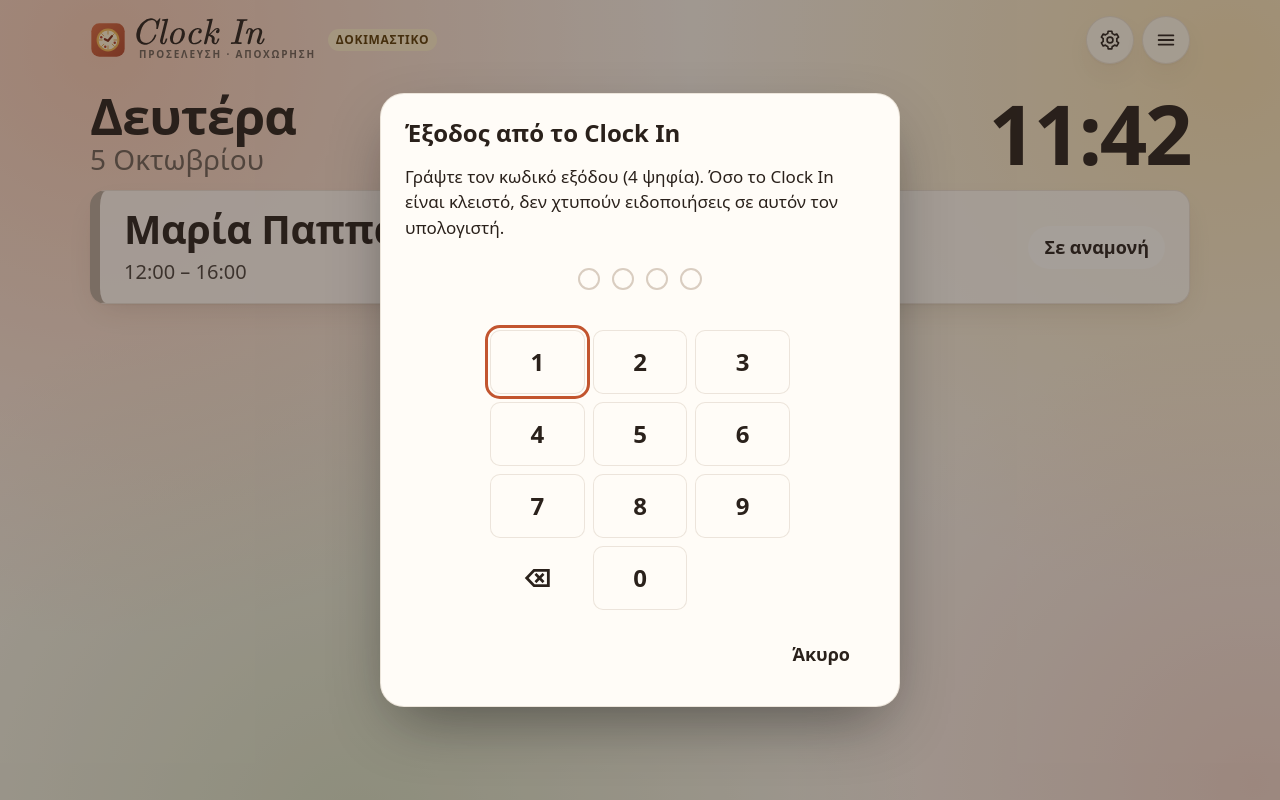
Test: QuitDialog › Cancel closes it without quitting
Expected: the text "Μαρία" is shown, [124,202,251,256]
Step 1. Click the button "Άκυρο" → (821, 654), box [767,626,875,682]
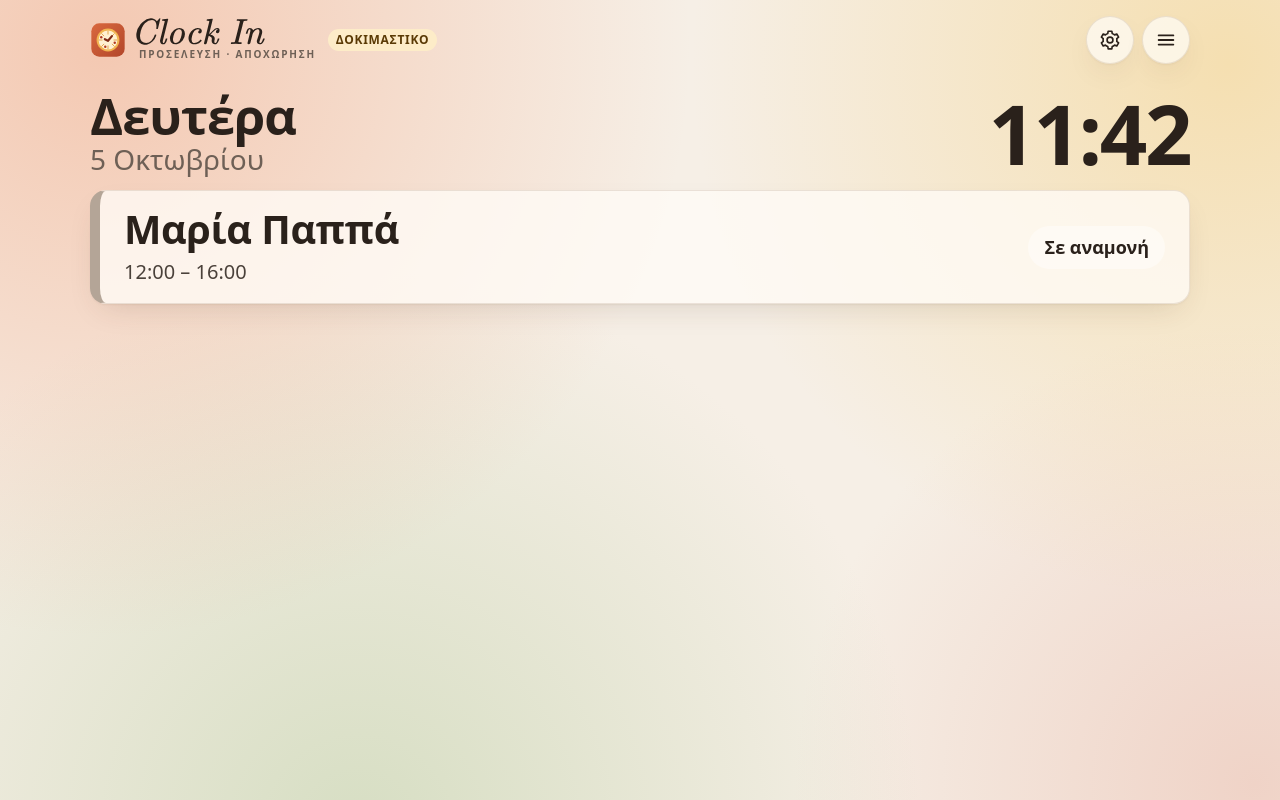
Now the dialog is gone
